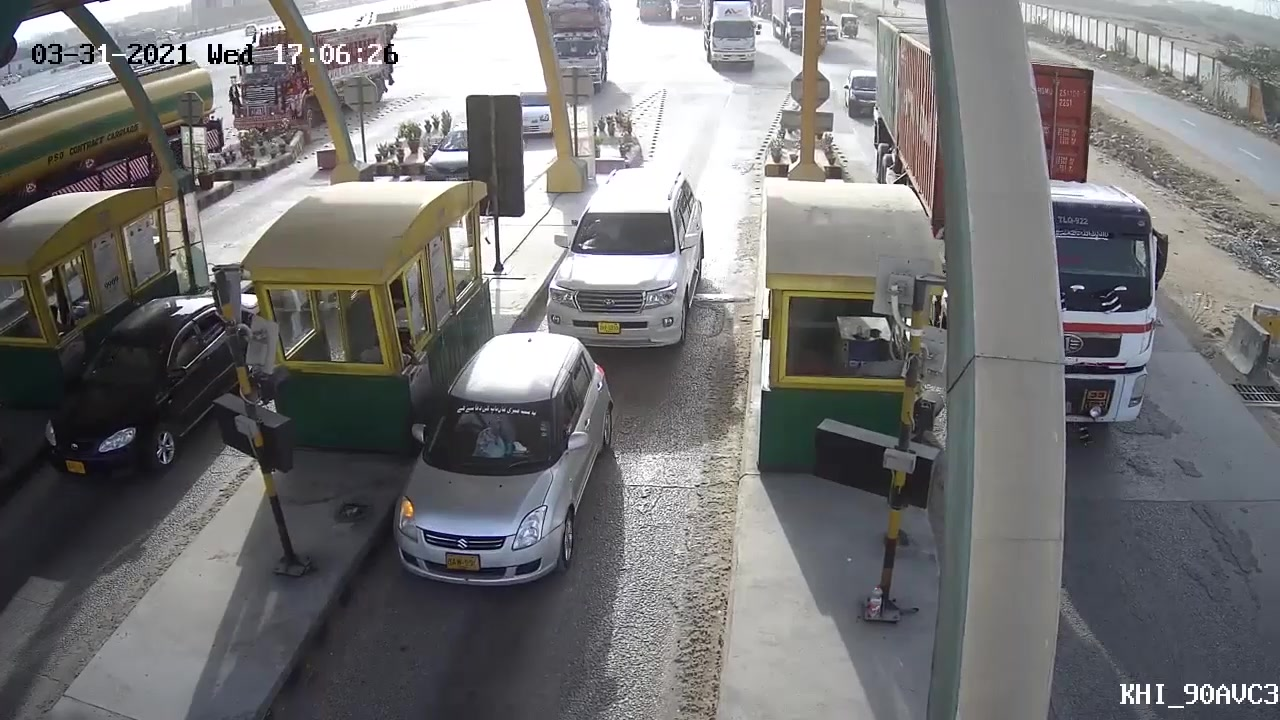F1: (370, 326, 625, 591), (539, 159, 708, 349)
